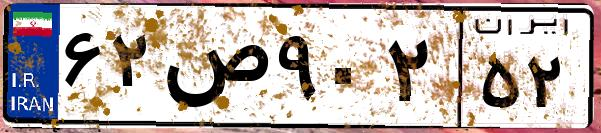0: (330, 28, 385, 110)
2: (385, 28, 445, 110), (525, 38, 570, 115), (110, 28, 158, 98)
5: (475, 38, 525, 113)
6: (57, 26, 110, 100)
9: (270, 28, 330, 110)
ص: (158, 20, 270, 120)
